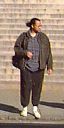person: (9, 15, 52, 119)
